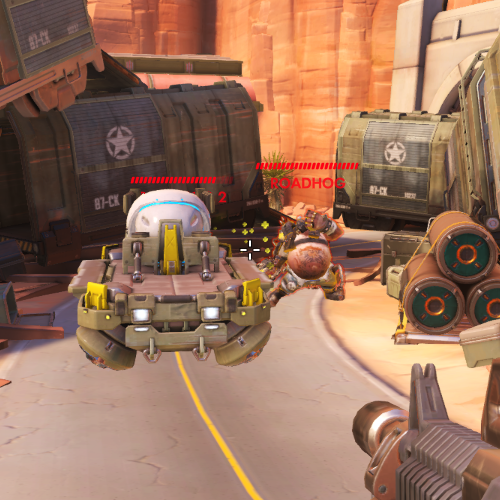hpbar: (129, 176, 235, 185), (255, 162, 359, 170)
